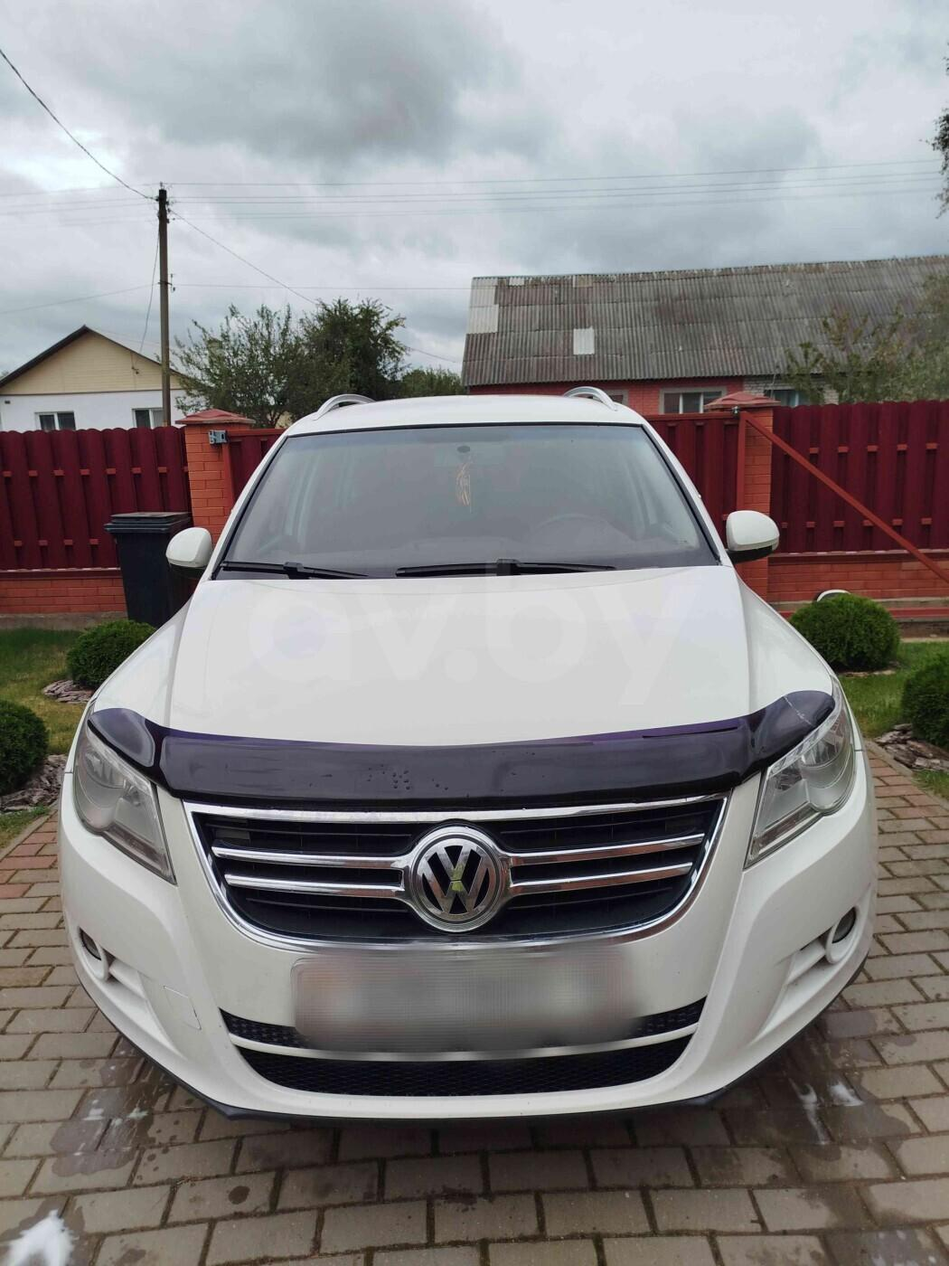Tiguan_2007-2011: (45, 385, 879, 1139)
